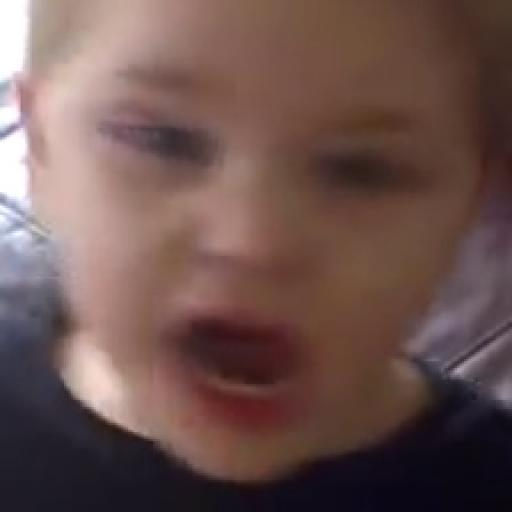Autism: (75, 0, 459, 461)
